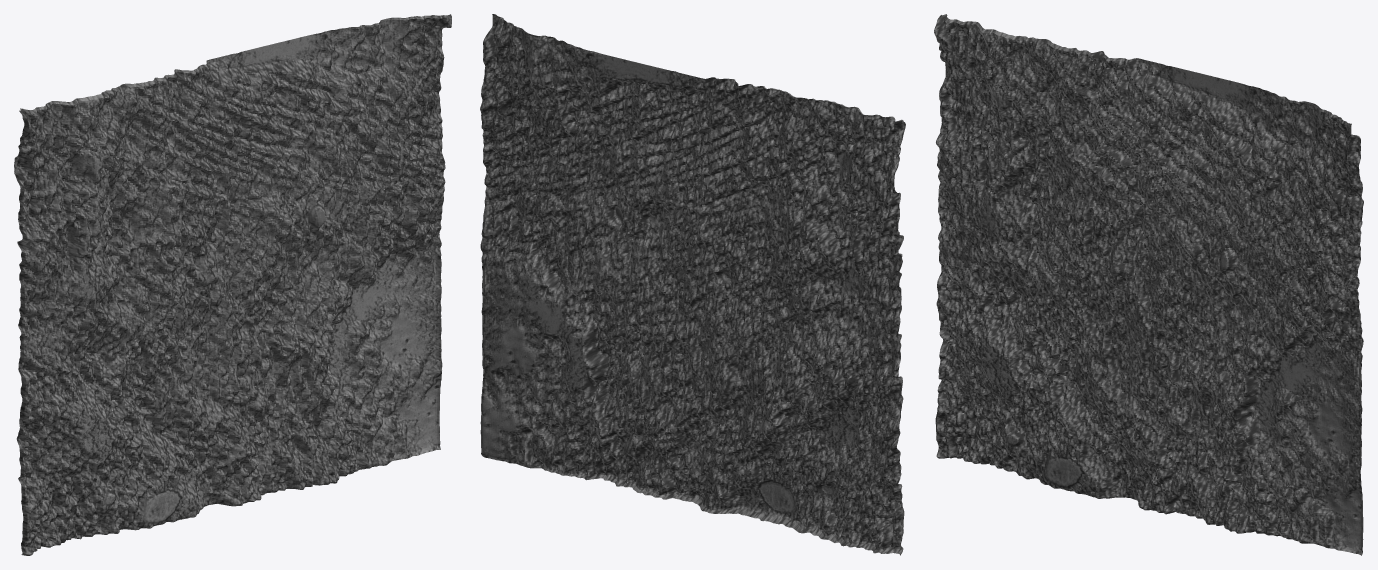
3 renders of one model, left to right at view 1: azimuth 30°, elevation 25°; view 2: azimuth 150°, elevation 25°; view 3: azimuth 330°, elevation 25°, orthographic.
Visible parts, largest first — view 1: sample_03_2_after_ft; view 2: sample_03_2_after_ft; view 3: sample_03_2_after_ft.
Part boxes in pixels (box(x1,y1,x2,y2)): sample_03_2_after_ft: box(14, 14, 451, 555); sample_03_2_after_ft: box(480, 14, 905, 555); sample_03_2_after_ft: box(934, 14, 1363, 555).
Size of the model in its own units: 1 by 1 by 0.06.
Materials: 1 (1 with a texture image).
